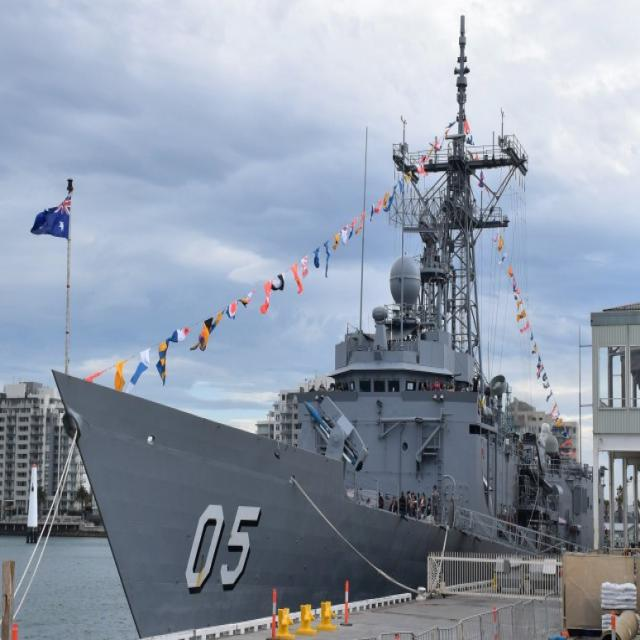Fragata: (49, 14, 594, 640)
